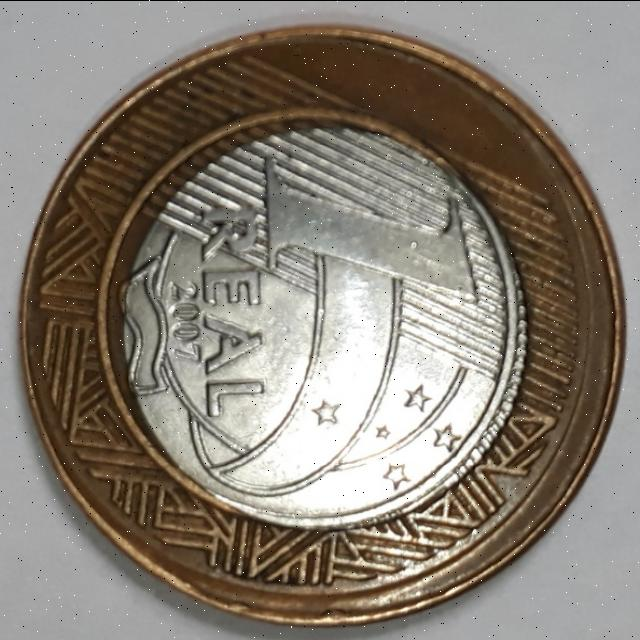1 real: (24, 25, 624, 628)
